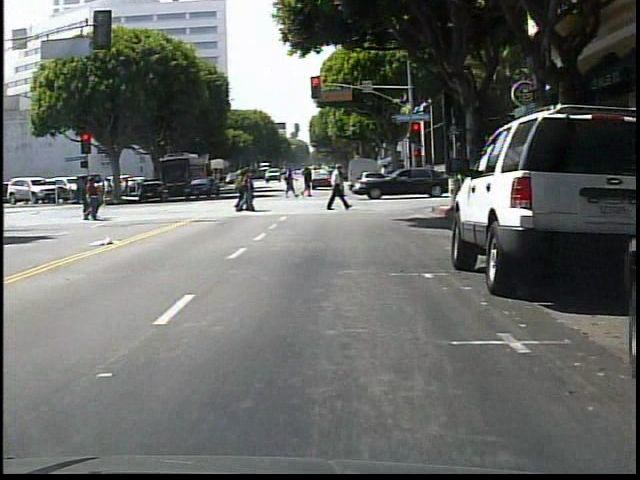person: (326, 161, 351, 215)
